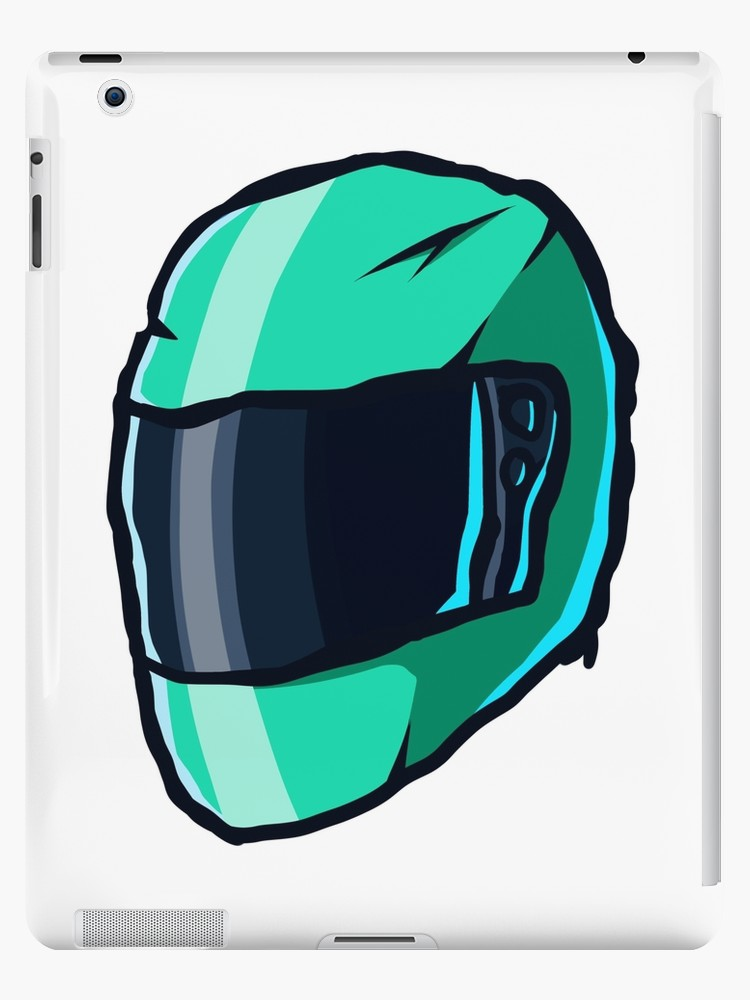with_helmet: (94, 138, 654, 855)
